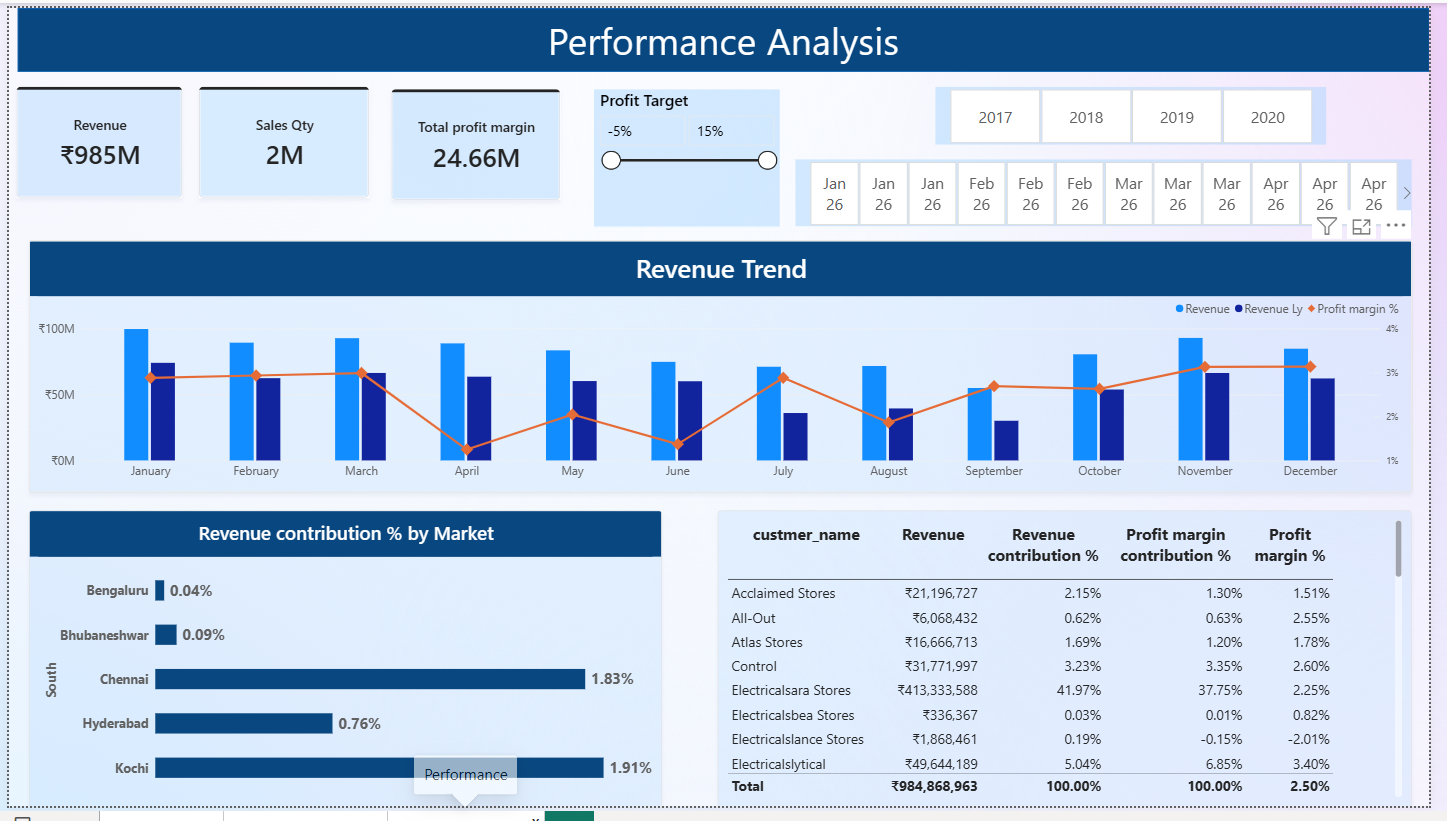

This screenshot's page, from the dashboard's own definition file:
{"tool":"powerbi","page":{"name":"Performance","canvas":[1920,1080],"ordinal":2},"visuals":[{"type":"shape","box":[11,0,1909.5,86.2],"z":0},{"type":"cardVisual","fields":{"Data":["Measure.Revenu"]},"box":[10.3,107,224.4,150.3],"z":1},{"type":"cardVisual","fields":{"Data":["Measure.Sales Qty"]},"box":[257.3,107,230.5,150.3],"z":2},{"type":"cardVisual","fields":{"Data":["Measure.Total  profit margin"]},"box":[516.6,109.1,228.5,150.3],"z":3},{"type":"slicer","fields":{"Values":["Profit Target.Profit Target"]},"box":[790.4,109.1,251.1,185.2],"z":4},{"type":"slicer","fields":{"Values":["Sales date.year"]},"box":[1253.5,107,529,78.2],"z":5},{"type":"slicer","fields":{"Values":["Sales date.cy_date"]},"box":[1064.2,203.8,833.6,90.6],"z":6},{"type":"lineClusteredColumnComboChart","title":"Revenue Trend","fields":{"Category":["Sales date.cy_date.Variation.Date Hierarchy.Month"],"Y":["Measure.Revenu","Measure.Revenu Ly"],"Y2":["Measure.Profit margin %"]},"box":[26.8,314.9,1871,341.7],"z":7},{"type":"barChart","title":"Revenue contribution % by Market","fields":{"Category":["Sales market.zone","Sales market.markets_name"],"Y":["Measure.Revenue contribution %"]},"box":[26.8,679.2,856.3,401.4],"z":8},{"type":"tableEx","fields":{"Values":["Sales customer.custmer_name","Measure.Revenue","Measure.Revenue contribution %","Measure.Profit margin contribution %","Measure.Profit margin %"]},"box":[959.2,679.2,938.6,401.4],"z":9}]}

Visuals, with their boxes on the page's 1920x1080 design canvas (x1, y1, x2, y2). These are canvas units, not pixel positions in the 1447x821 screenshot, which may show the page scaled, cropped or inside an application window:
shape: 11,0,1920,86
cardVisual - Measure.Revenu: 10,107,235,257
cardVisual - Measure.Sales Qty: 257,107,488,257
cardVisual - Measure.Total  profit margin: 517,109,745,259
slicer - Profit Target.Profit Target: 790,109,1042,294
slicer - Sales date.year: 1254,107,1782,185
slicer - Sales date.cy_date: 1064,204,1898,294
"Revenue Trend" lineClusteredColumnComboChart: 27,315,1898,657
"Revenue contribution % by Market" barChart: 27,679,883,1081
tableEx - Sales customer.custmer_name x Measure.Revenue: 959,679,1898,1081
